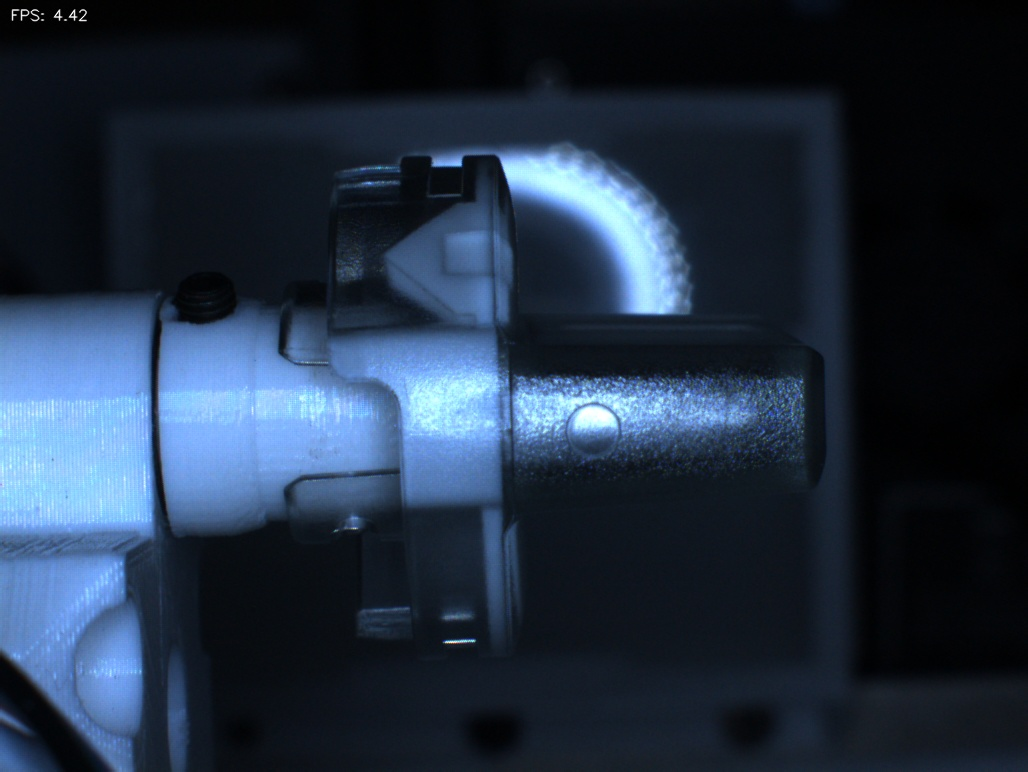DentOk: (357, 215, 429, 295)
